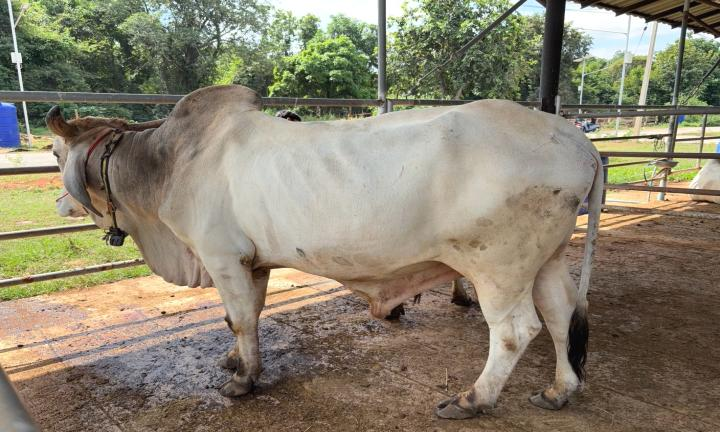Brahman: (46, 85, 602, 418)
